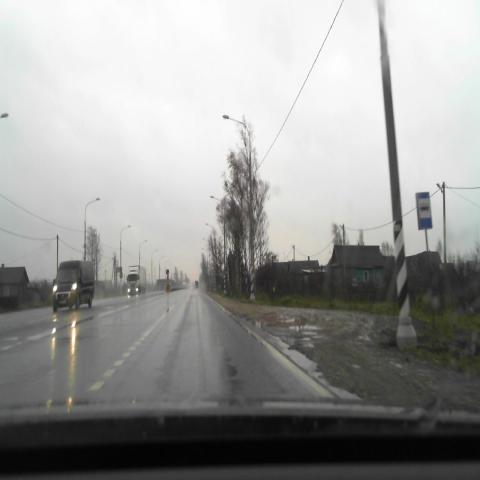5_16: (416, 192, 432, 230)
